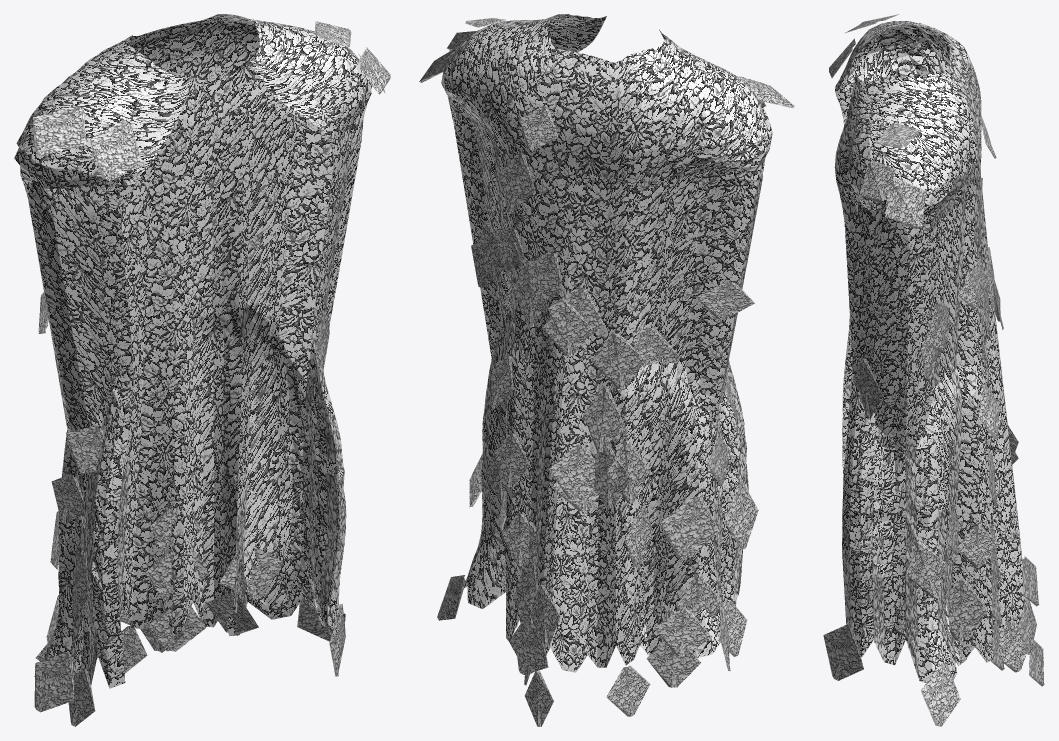
The model's file is ewb_cape_leaf.glb.
3 renders of one model, left to right at view 1: azimuth 30°, elevation 25°; view 2: azimuth 150°, elevation 25°; view 3: azimuth 270°, elevation 25°, orthographic. The views are drawn at different scales.
Parts seen in each view (by area): view 1: ewb_cape_leaf; view 2: ewb_cape_leaf; view 3: ewb_cape_leaf.
Boxes of the visible parts, box(x1,y1,x2,y2) form: ewb_cape_leaf: box(14, 14, 390, 726); ewb_cape_leaf: box(419, 14, 794, 726); ewb_cape_leaf: box(823, 14, 1044, 726).
Bounding box in the file's own units: 0.686 × 1.22 × 0.3839.
1 material, 1 textured.
